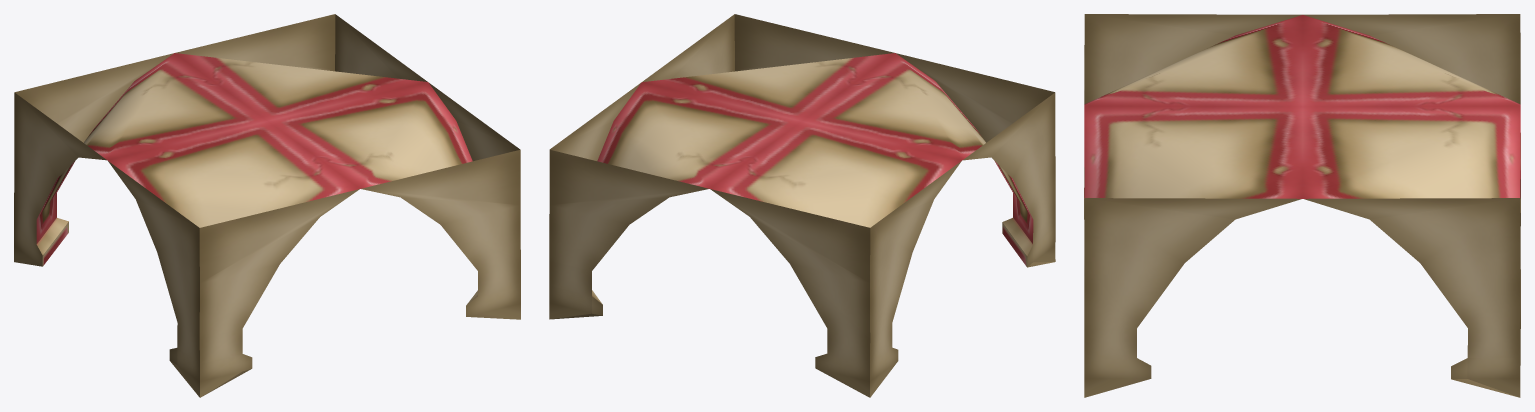
The model's file is roof big.FBX.
3 renders of one model, left to right at view 1: azimuth 30°, elevation 25°; view 2: azimuth 150°, elevation 25°; view 3: azimuth 270°, elevation 25°, orthographic. The views are drawn at different scales.
Parts seen in each view (by area): view 1: roof big; view 2: roof big; view 3: roof big.
Part boxes in pixels (<box>): roof big: <box>14,14,520,397</box>; roof big: <box>549,14,1055,397</box>; roof big: <box>1084,14,1520,397</box>.
Size of the model in its own units: 932 by 469 by 929.
